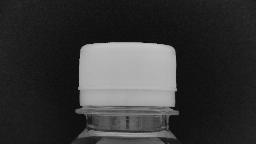Good Cap: (70, 39, 184, 120)
